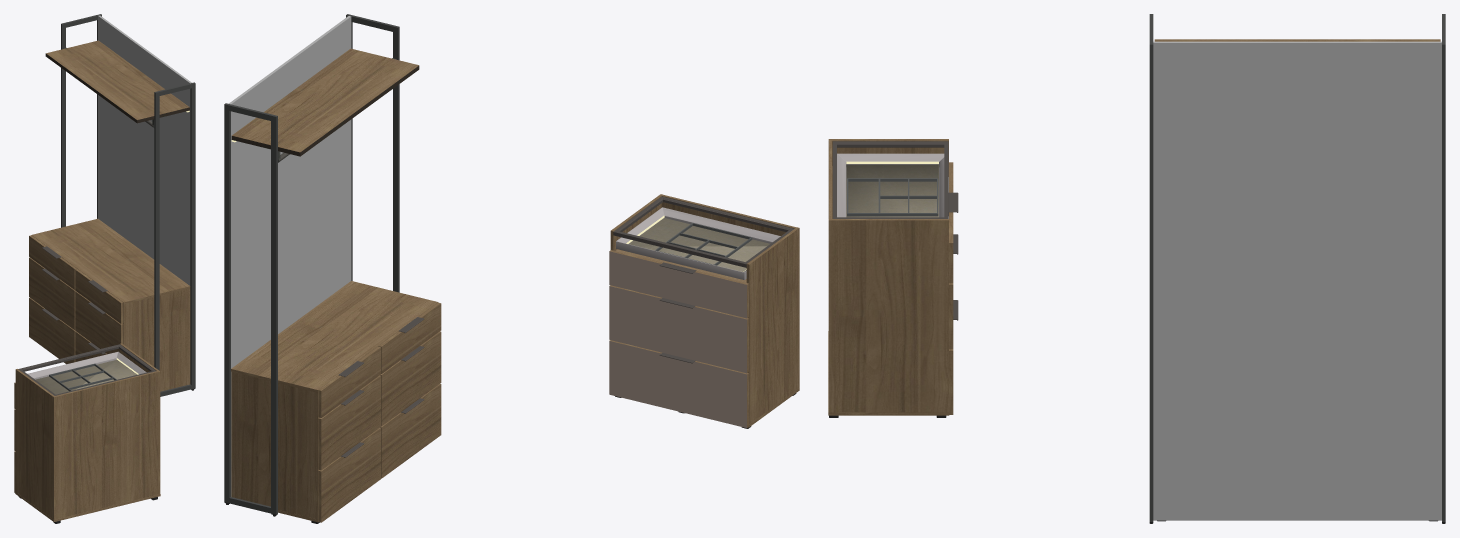
Rendered from THST00356.glb.
3 renders of one model, left to right at view 1: azimuth 30°, elevation 25°; view 2: azimuth 150°, elevation 25°; view 3: azimuth 270°, elevation 25°, orthographic. The views are drawn at different scales.
Visible parts, largest first — view 1: node_262_2_StaticMeshComponent0, node_402_2_StaticMeshComponent0, node_269_2_StaticMeshComponent0, node_405_StaticMeshComponent0, node_272_StaticMeshComponent0, node_263_StaticMeshComponent0, node_289_2_StaticMeshComponent0, node_741_StaticMeshComponent0, node_303_2_StaticMeshComponent0, node_296_2_StaticMeshComponent0, node_740_StaticMeshComponent0, node_447_2_StaticMeshComponent0 (+9 smaller); view 2: node_262_2_StaticMeshComponent0, node_269_2_StaticMeshComponent0, node_271_2_StaticMeshComponent0, node_405_StaticMeshComponent0, node_263_StaticMeshComponent0, node_417_StaticMeshComponent0, node_425_2_StaticMeshComponent0, node_409_2_StaticMeshComponent0, node_289_2_StaticMeshComponent0, node_303_2_StaticMeshComponent0, node_296_2_StaticMeshComponent0, node_310_2_StaticMeshComponent0 (+10 smaller); view 3: node_262_2_StaticMeshComponent0, node_404_2_StaticMeshComponent0, node_447_2_StaticMeshComponent0, node_741_StaticMeshComponent0, node_448_2_StaticMeshComponent0, node_890_StaticMeshComponent0, node_408_2_StaticMeshComponent0, node_405_StaticMeshComponent0, node_263_StaticMeshComponent0.
Boxes of the visible parts, left/top/right/bottom form: node_262_2_StaticMeshComponent0: left=98, top=15, right=191, bottom=285; node_402_2_StaticMeshComponent0: left=55, top=371, right=158, bottom=519; node_269_2_StaticMeshComponent0: left=31, top=218, right=190, bottom=304; node_405_StaticMeshComponent0: left=15, top=369, right=55, bottom=519; node_272_StaticMeshComponent0: left=123, top=288, right=190, bottom=391; node_263_StaticMeshComponent0: left=46, top=40, right=189, bottom=119; node_289_2_StaticMeshComponent0: left=29, top=257, right=75, bottom=329; node_741_StaticMeshComponent0: left=190, top=82, right=195, bottom=389; node_303_2_StaticMeshComponent0: left=29, top=297, right=75, bottom=364; node_296_2_StaticMeshComponent0: left=75, top=291, right=123, bottom=354; node_740_StaticMeshComponent0: left=154, top=91, right=159, bottom=370; node_447_2_StaticMeshComponent0: left=35, top=360, right=136, bottom=394; node_262_2_StaticMeshComponent0: left=229, top=16, right=351, bottom=496; node_269_2_StaticMeshComponent0: left=231, top=281, right=438, bottom=392; node_271_2_StaticMeshComponent0: left=231, top=372, right=318, bottom=519; node_405_StaticMeshComponent0: left=746, top=227, right=799, bottom=424; node_263_StaticMeshComponent0: left=232, top=48, right=418, bottom=152; node_417_StaticMeshComponent0: left=609, top=286, right=746, bottom=373; node_425_2_StaticMeshComponent0: left=609, top=341, right=746, bottom=427; node_409_2_StaticMeshComponent0: left=609, top=251, right=746, bottom=318; node_289_2_StaticMeshComponent0: left=318, top=375, right=380, bottom=470; node_303_2_StaticMeshComponent0: left=318, top=428, right=380, bottom=522; node_296_2_StaticMeshComponent0: left=380, top=331, right=441, bottom=426; node_310_2_StaticMeshComponent0: left=380, top=383, right=441, bottom=478; node_262_2_StaticMeshComponent0: left=1153, top=41, right=1441, bottom=520; node_404_2_StaticMeshComponent0: left=828, top=219, right=948, bottom=412; node_447_2_StaticMeshComponent0: left=846, top=164, right=938, bottom=217; node_741_StaticMeshComponent0: left=1149, top=41, right=1153, bottom=521; node_448_2_StaticMeshComponent0: left=837, top=153, right=944, bottom=217; node_890_StaticMeshComponent0: left=1442, top=41, right=1445, bottom=521; node_408_2_StaticMeshComponent0: left=832, top=141, right=948, bottom=218; node_405_StaticMeshComponent0: left=828, top=139, right=948, bottom=218; node_263_StaticMeshComponent0: left=1154, top=39, right=1440, bottom=41.
Size of what is drawn, in the model's own units: 1.83 by 2.2 by 2.57.
16 materials, 8 textured.
